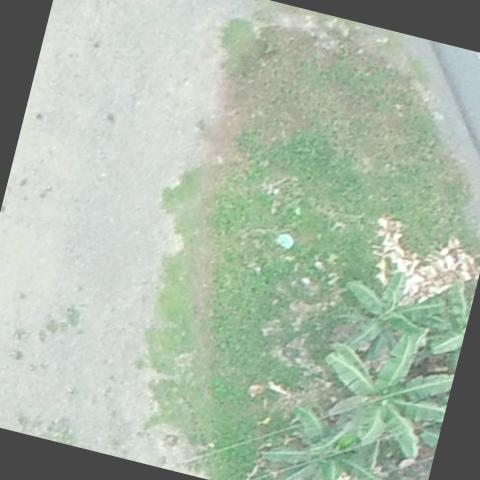Banana-plant: (302, 318, 460, 477), (326, 256, 452, 376), (251, 393, 395, 480)
